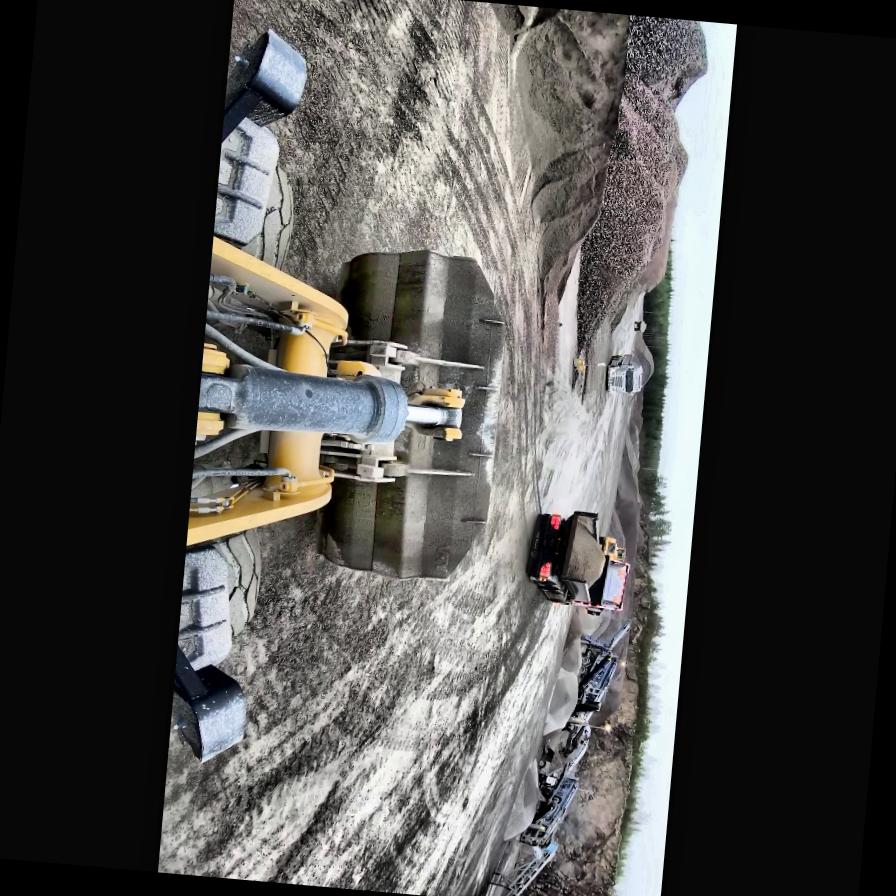anchor: (404, 384, 468, 440)
pile of gravel: (562, 10, 715, 360), (461, 2, 635, 309), (505, 608, 591, 844), (604, 461, 650, 610), (544, 610, 588, 738), (502, 754, 543, 846), (630, 330, 658, 396), (627, 391, 647, 450)
